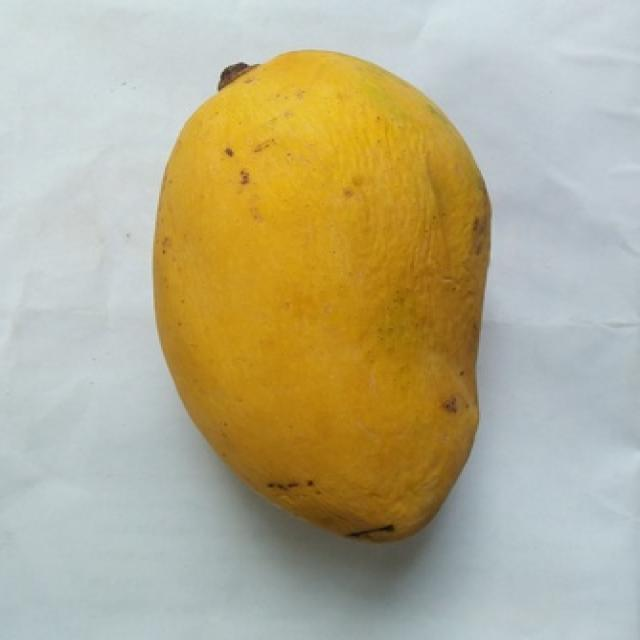Mango: (157, 51, 489, 538)
